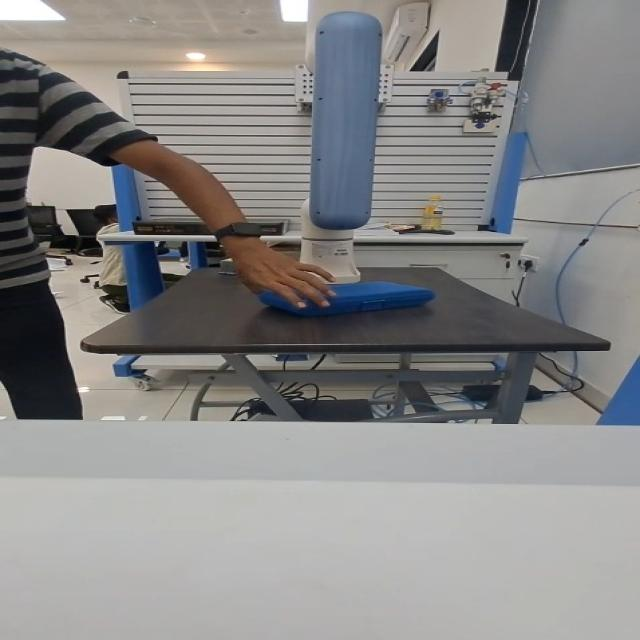top-surface: (292, 281, 405, 298)
